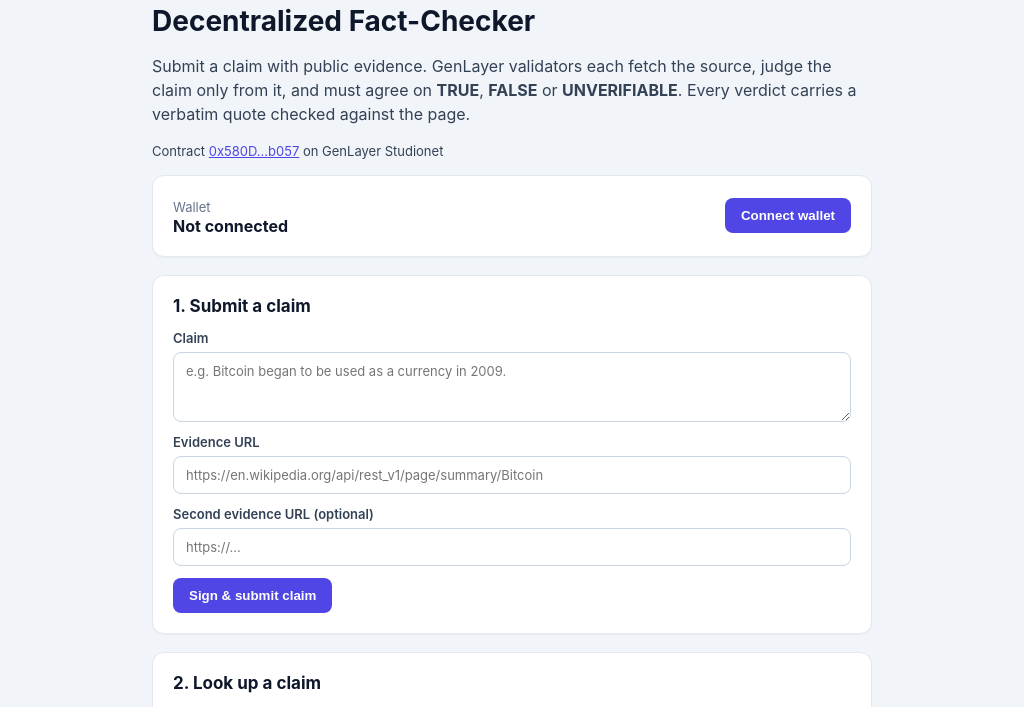
Test case: App › surfaces a failed transaction instead of pretending success
Click the button "Connect wallet" at (788,216), box top-left (725, 198), bottom-right (851, 233)
(page scrolled)
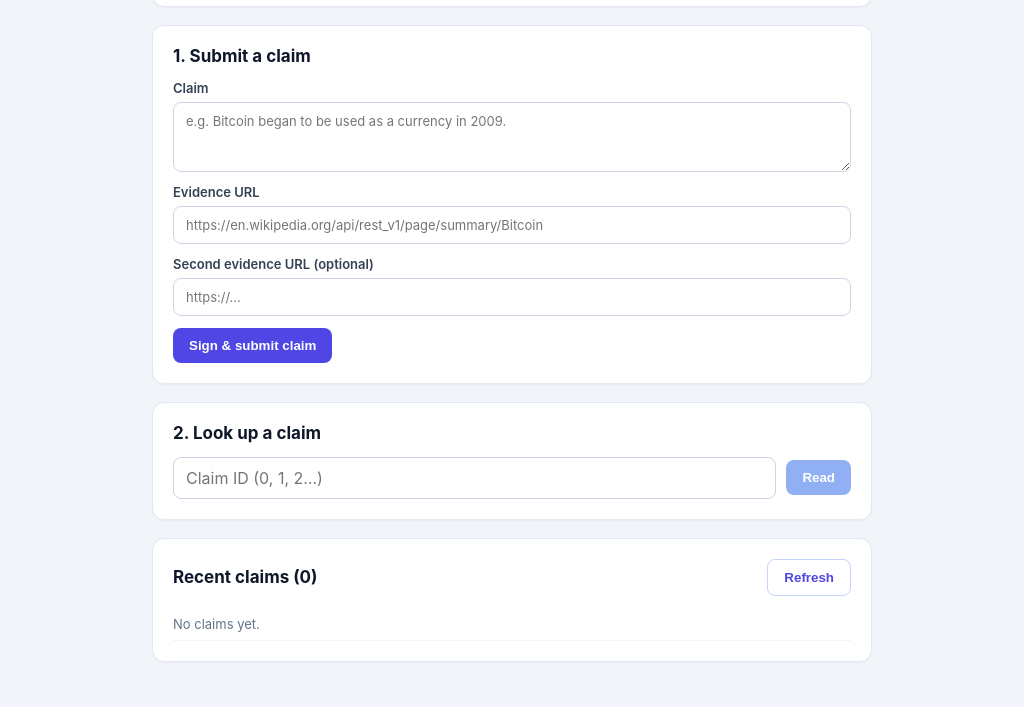
Type "0" into the field labelled "Claim ID" at (475,478), box top-left (173, 456), bottom-right (776, 498)
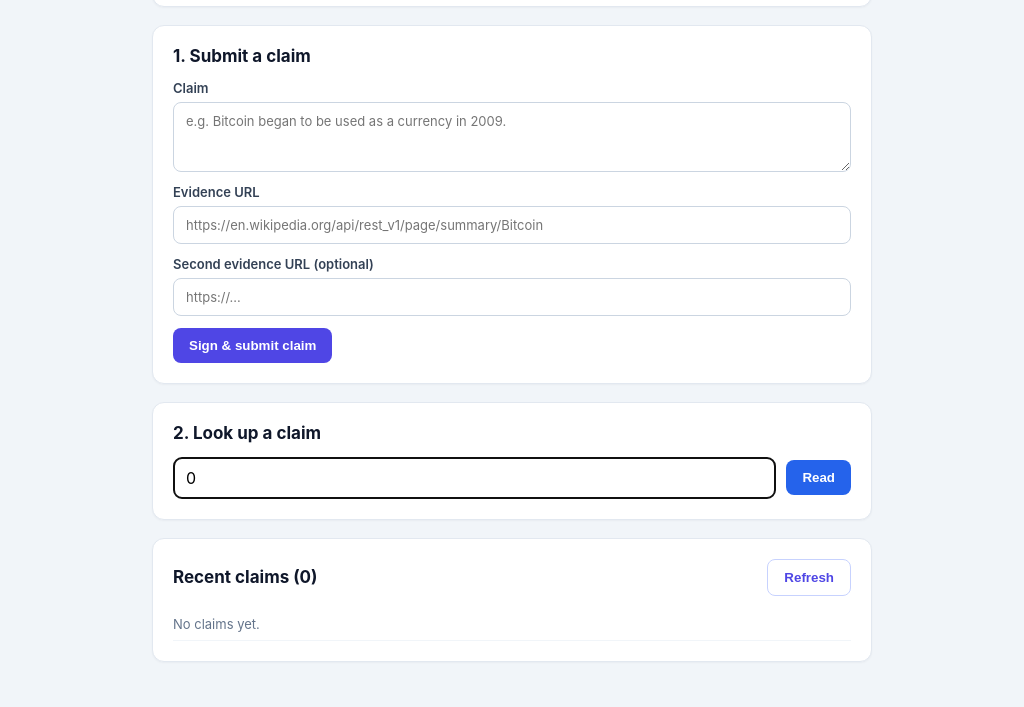
Click the button "Read" at (819,478), box top-left (786, 460), bottom-right (851, 495)
(page scrolled)
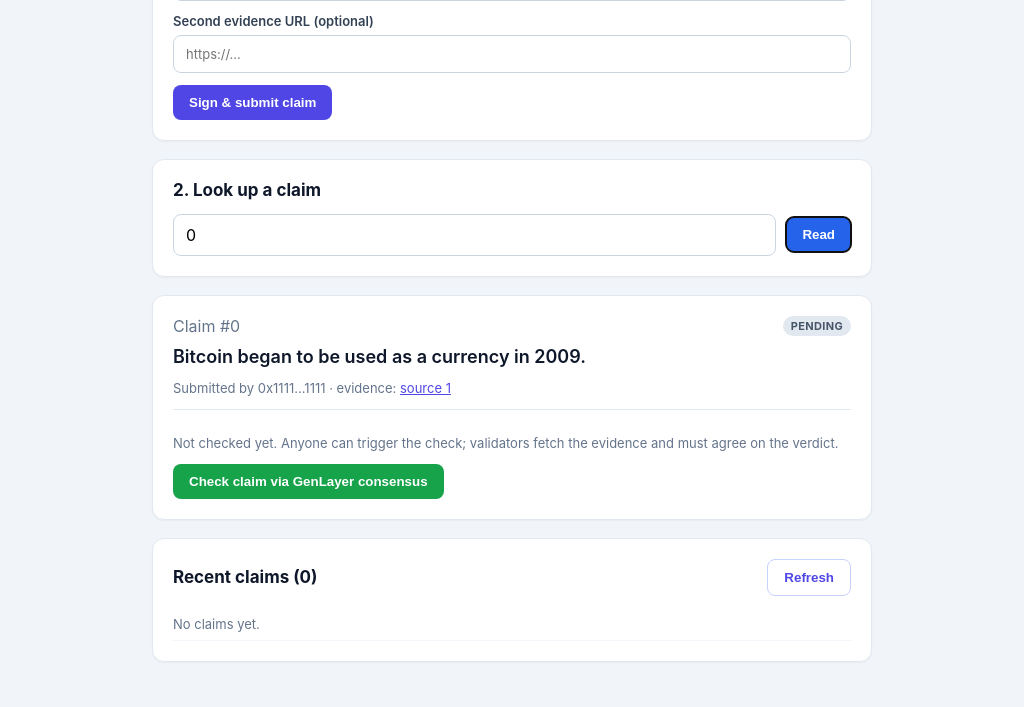
Click the button "Check claim via GenLayer consensus" at (308,481), box top-left (173, 464), bottom-right (444, 498)
(page scrolled)
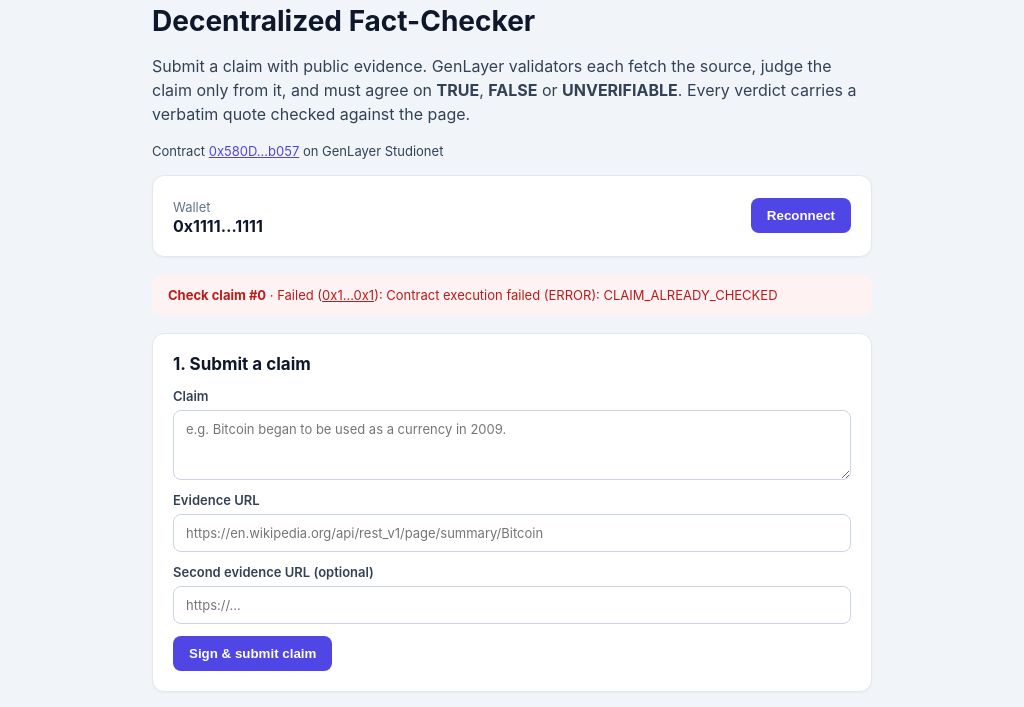
Check: the message shows "CLAIM_ALREADY_CHECKED", box top-left (386, 286), bottom-right (778, 302)
